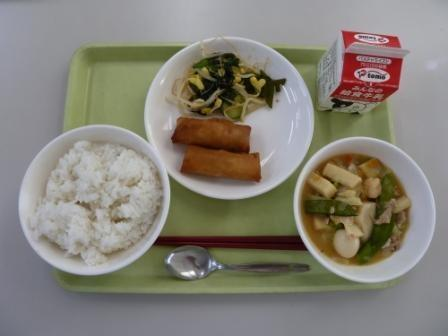Milk: (319, 34, 414, 119)
Rice: (15, 132, 164, 270)
Salad: (175, 44, 282, 124)
crepe w filling: (165, 117, 273, 189)
vegetable soup: (299, 142, 435, 272)
